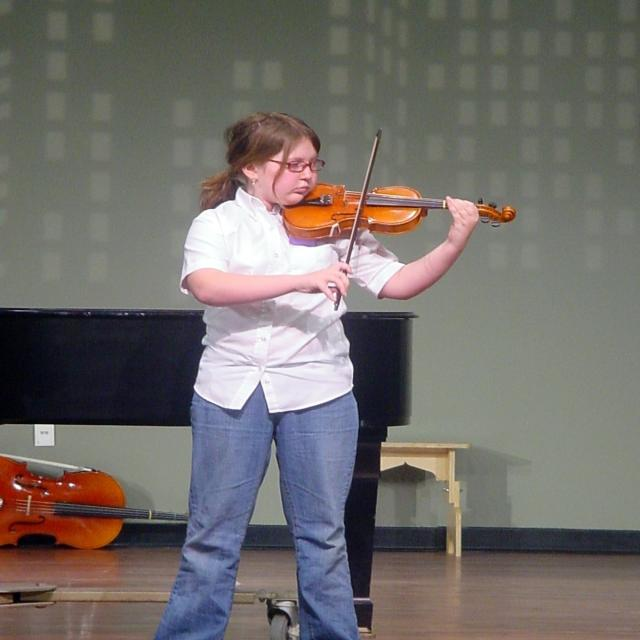cello: (0, 446, 231, 556)
violin: (273, 180, 518, 242)
